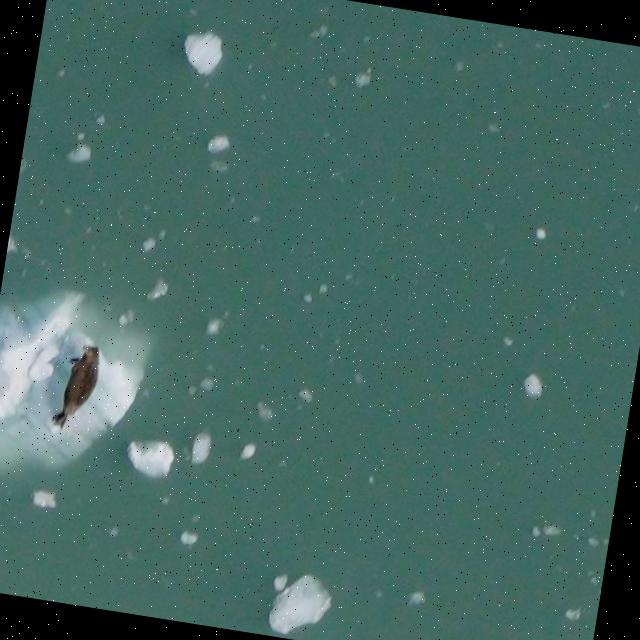seal: (41, 338, 114, 435)
